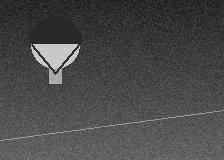helmet: (29, 16, 81, 73)
